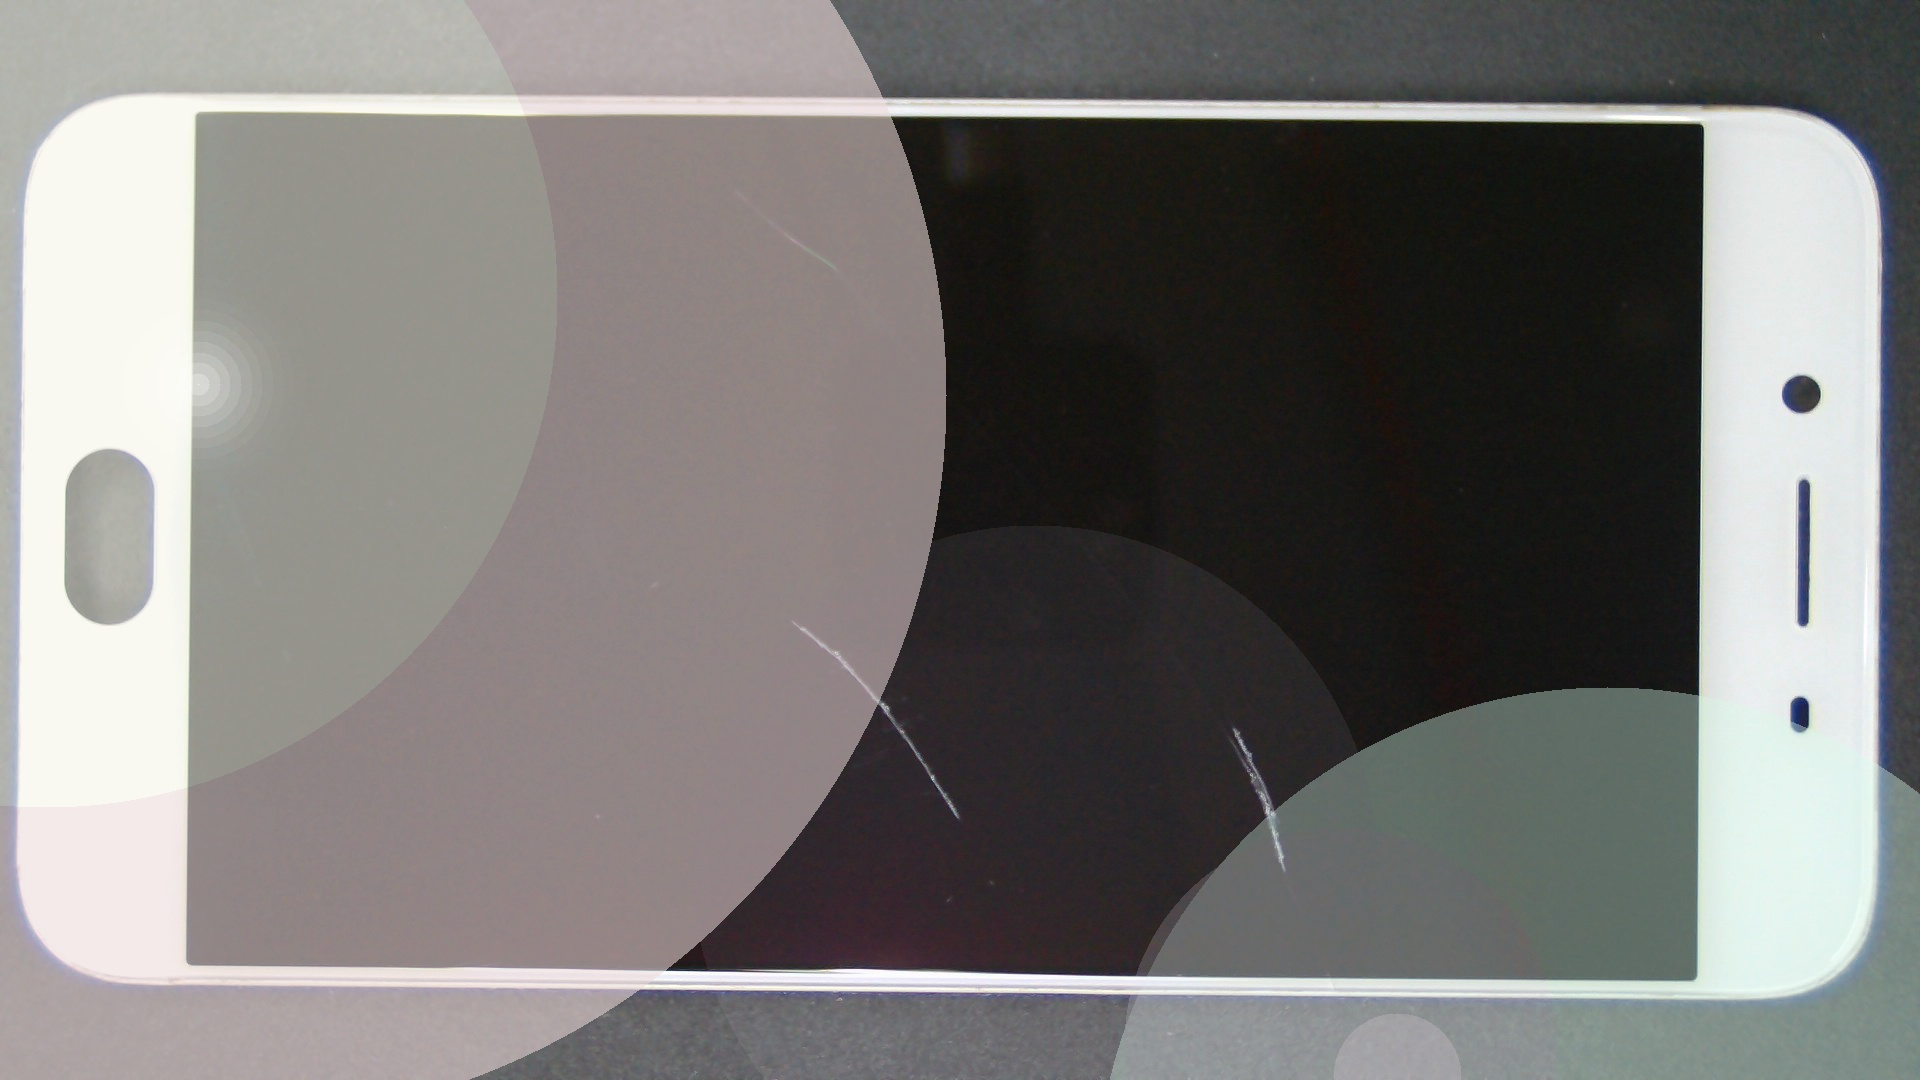oil: (617, 363, 1850, 1080), (397, 309, 1189, 930), (363, 91, 1106, 293)
